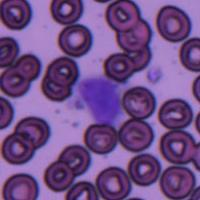L: (76, 74, 122, 125)
